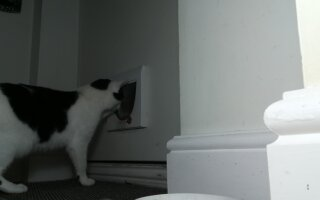bad: (1, 74, 130, 191)
